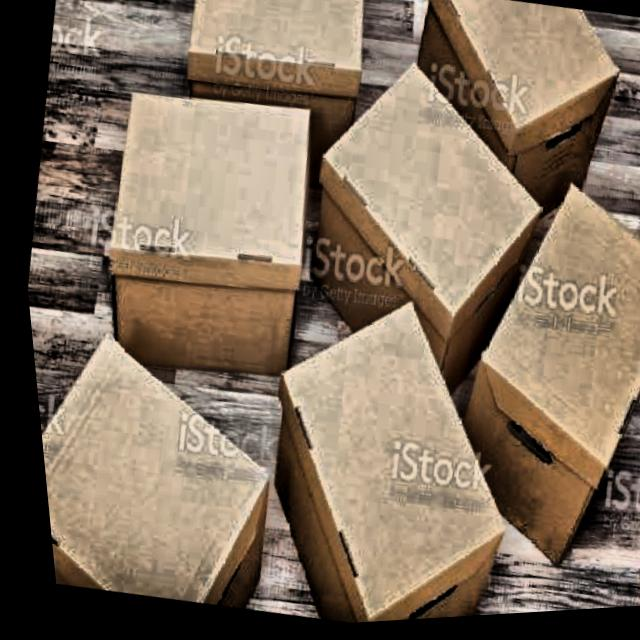Cardbox: (202, 272, 546, 632), (267, 50, 581, 413), (45, 69, 363, 398), (23, 289, 319, 626), (400, 154, 640, 556), (355, 0, 640, 238), (152, 0, 384, 165)
